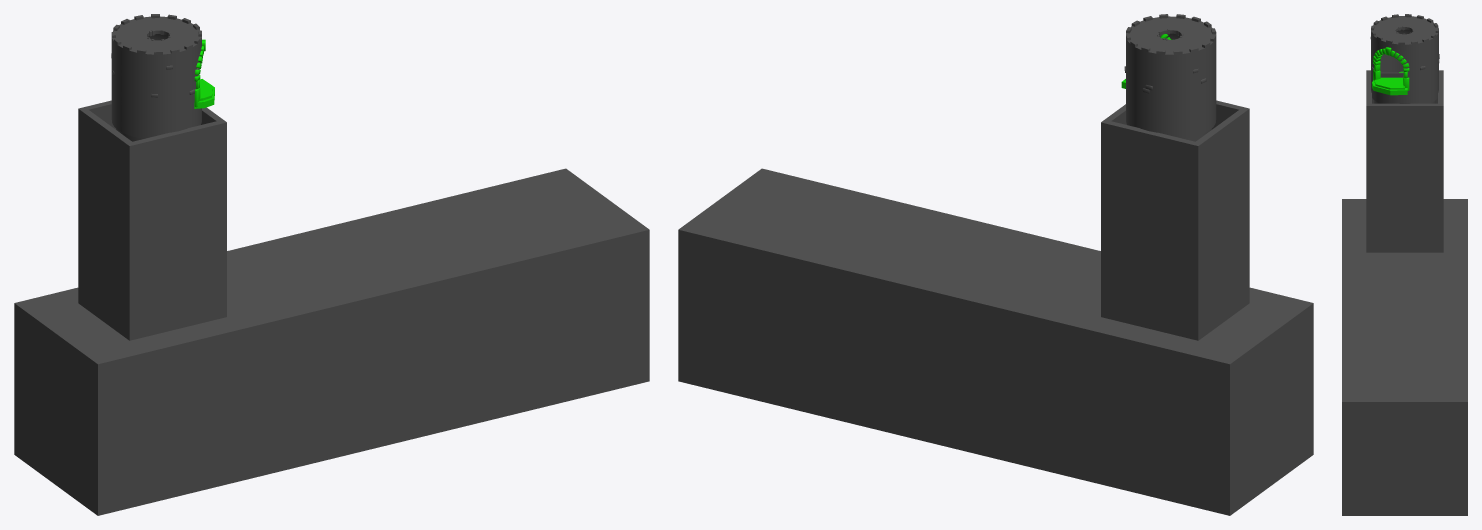
Rendered from Ruin Sintra.fbx.
3 renders of one model, left to right at view 1: azimuth 30°, elevation 25°; view 2: azimuth 150°, elevation 25°; view 3: azimuth 270°, elevation 25°, orthographic. The views are drawn at different scales.
Parts seen in each view (by area): view 1: Sombreiro, Entrada; view 2: Sombreiro, Entrada; view 3: Sombreiro, Entrada, Escadas_entrada.
Boxes of the visible parts, bbox=[...] form: Sombreiro: bbox=[14, 100, 649, 515]; Entrada: bbox=[111, 14, 205, 141]; Sombreiro: bbox=[678, 100, 1313, 515]; Entrada: bbox=[1126, 14, 1216, 141]; Sombreiro: bbox=[1342, 70, 1467, 515]; Entrada: bbox=[1371, 14, 1438, 103]; Escadas_entrada: bbox=[1372, 71, 1407, 95].
Bounding box in the file's own units: 44.71 × 126 × 170.
